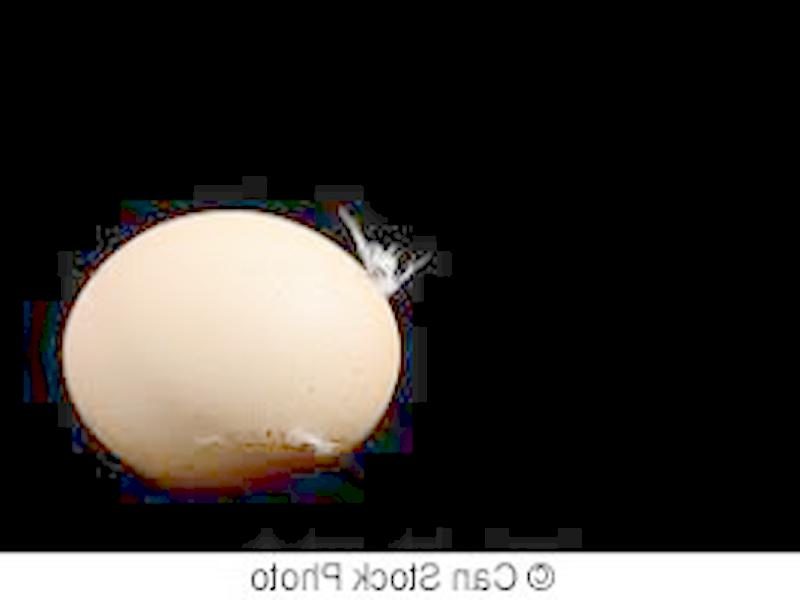Eggs: (63, 214, 399, 490)
